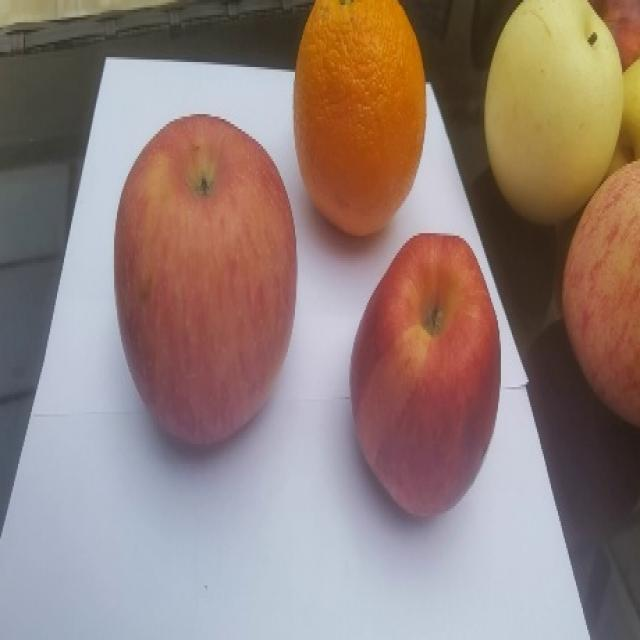Apple: (115, 112, 302, 450), (348, 230, 510, 525), (563, 164, 640, 433)
Orange: (289, 0, 433, 240)
